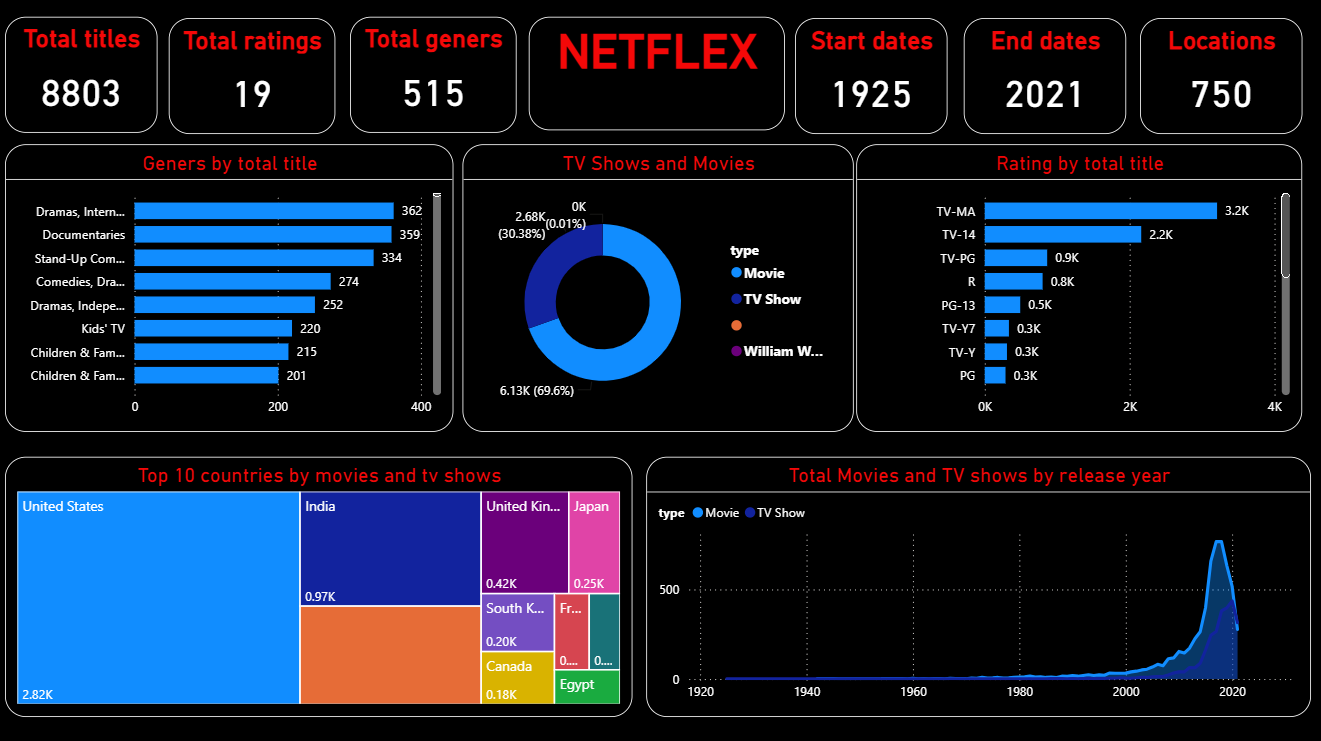

The page's visual inventory and layout, read from the dashboard file:
{"tool":"powerbi","page":{"name":"Page 1","canvas":[1280,720],"ordinal":0},"visuals":[{"type":"donutChart","title":"TV Shows and Movies","fields":{"Y":["Count(netflix_titles.show_id)"],"Category":["netflix_titles.type"]},"box":[451.2,141.2,377.6,277.5],"z":0},{"type":"barChart","title":" Rating by total title","fields":{"Category":["netflix_titles.rating"],"Y":["Count(netflix_titles.show_id)"]},"box":[831.2,141.2,430.7,277.5],"z":1000},{"type":"barChart","title":"Geners by total title","fields":{"Category":["netflix_titles.listed_in"],"Y":["Count(netflix_titles.show_id)"]},"box":[9.7,141.2,433.1,277.5],"z":2000},{"type":"areaChart","title":" Total Movies and TV shows by release year","fields":{"Category":["netflix_titles.release_year"],"Y":["CountNonNull(netflix_titles.show_id)"],"Series":["netflix_titles.type"]},"box":[628.6,442.8,641.8,250.9],"z":3000},{"type":"treemap","title":"Top 10 countries by movies and tv shows","fields":{"Group":["netflix_titles.country"],"Values":["Count(netflix_titles.show_id)"]},"box":[9.7,442.8,605.6,250.9],"z":4000},{"type":"shape","title":"NETFLEX","box":[532,20.5,247.3,109.8],"z":5000},{"type":"card","title":"Total titles","fields":{"Values":["Count(netflix_titles.title)"]},"box":[9.7,18.1,171.3,112.2],"z":6000},{"type":"card","title":"Total ratings","fields":{"Values":["Count(netflix_titles.rating)"]},"box":[193,18.1,158,112.2],"z":7000},{"type":"card","title":"Total geners","fields":{"Values":["Count(netflix_titles.listed_in)"]},"box":[364.3,18.1,156.8,112.2],"z":8000},{"type":"card","title":"Start dates","fields":{"Values":["Min(netflix_titles.release_year)"]},"box":[779.4,18.1,147.2,112.2],"z":9000},{"type":"card","title":"End dates","fields":{"Values":["Max(netflix_titles.release_year)"]},"box":[938.6,18.1,156.8,112.2],"z":10000},{"type":"card","title":"Locations","fields":{"Values":["Count(netflix_titles.country)"]},"box":[1105.1,18.1,156.8,112.2],"z":11000}]}

Visuals, with their boxes in screenshot pixels (x1, y1, x2, y2), scaled from the page's 1280x720 canvas onto the 1321x741 screenshot:
"TV Shows and Movies" donutChart: l=466, t=145, r=855, b=431
" Rating by total title" barChart: l=858, t=145, r=1302, b=431
"Geners by total title" barChart: l=10, t=145, r=457, b=431
" Total Movies and TV shows by release year" areaChart: l=649, t=456, r=1311, b=714
"Top 10 countries by movies and tv shows" treemap: l=10, t=456, r=635, b=714
"NETFLEX" shape: l=549, t=21, r=804, b=134
"Total titles" card: l=10, t=19, r=187, b=134
"Total ratings" card: l=199, t=19, r=362, b=134
"Total geners" card: l=376, t=19, r=538, b=134
"Start dates" card: l=804, t=19, r=956, b=134
"End dates" card: l=969, t=19, r=1130, b=134
"Locations" card: l=1140, t=19, r=1302, b=134
